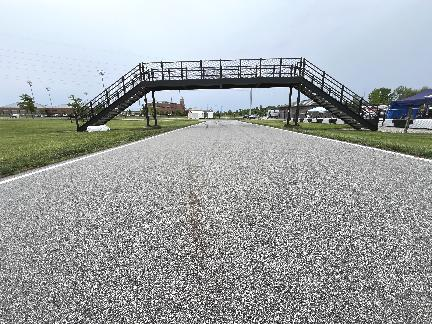Grass: (0, 120, 204, 176), (243, 120, 431, 158)
Lane: (0, 121, 431, 323)
